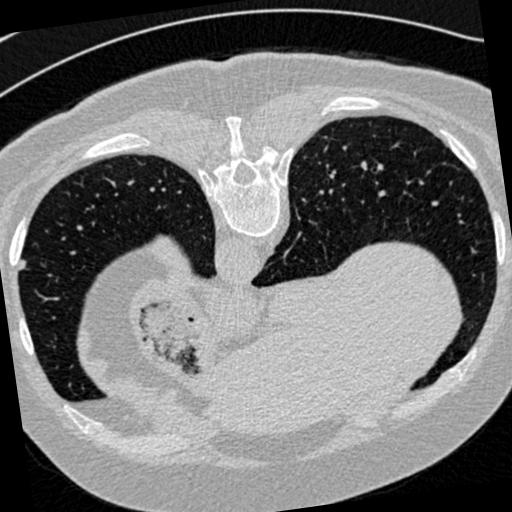nodule: (16, 258, 32, 274)
